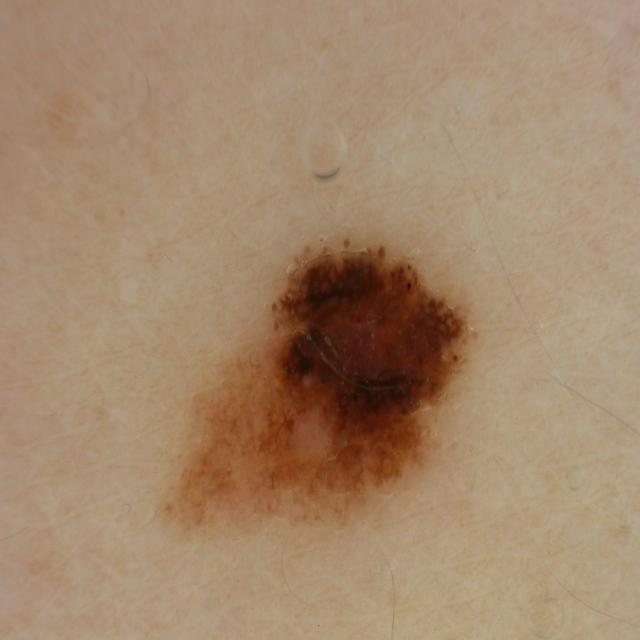Melanoma: (109, 185, 521, 587)
